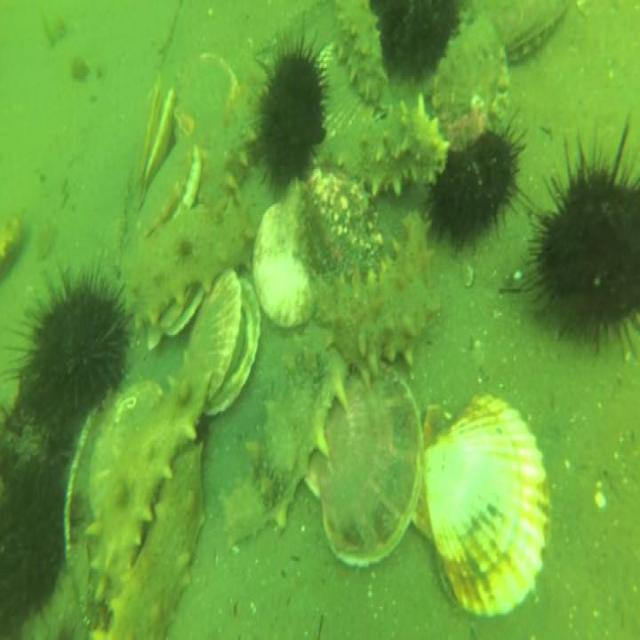echinus: (530, 139, 640, 347), (15, 275, 130, 444), (428, 117, 524, 253), (0, 453, 70, 628), (255, 39, 325, 196), (374, 0, 461, 82)
holothurian: (219, 338, 350, 558), (88, 434, 206, 640), (82, 395, 196, 605), (310, 208, 441, 386), (121, 200, 254, 328), (323, 93, 448, 199), (335, 0, 388, 104), (200, 121, 256, 212)
scallop: (410, 390, 553, 620), (305, 358, 427, 570), (88, 375, 164, 523), (186, 267, 260, 417), (252, 183, 314, 332), (132, 136, 202, 245), (314, 35, 378, 142), (131, 74, 176, 214), (171, 50, 239, 136), (143, 284, 202, 356)
